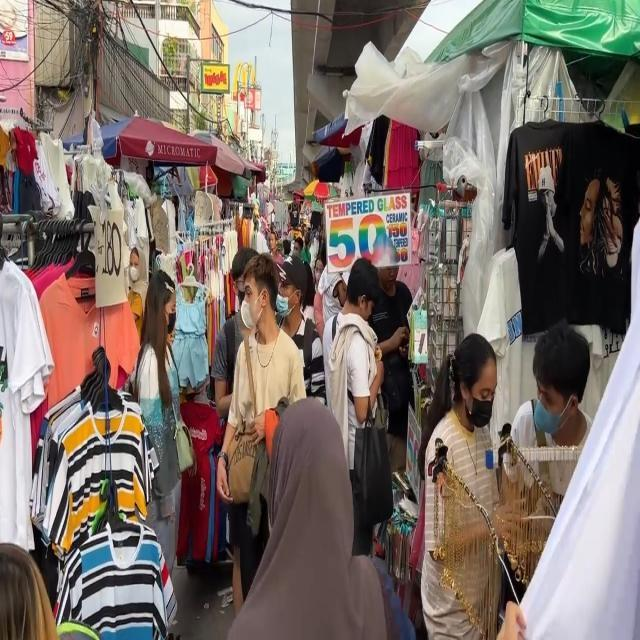hairnet: (277, 288, 300, 313)
